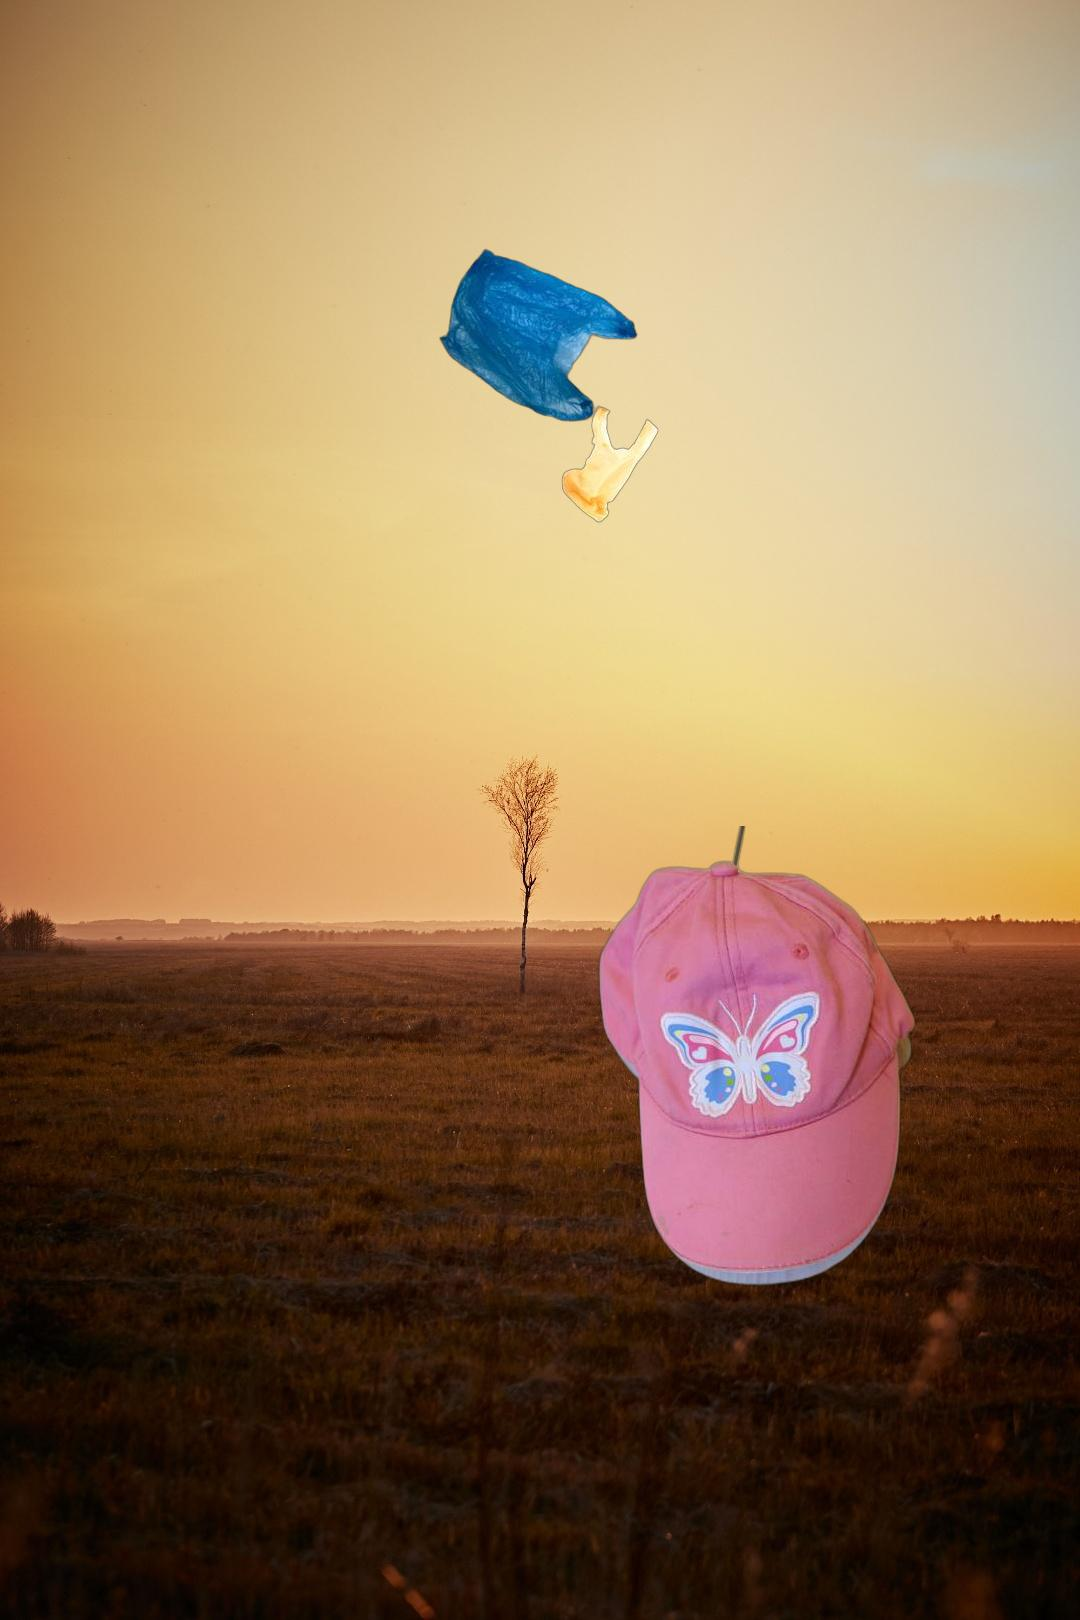clothes: (595, 826, 918, 1290)
plastic-bag: (438, 248, 661, 526)
